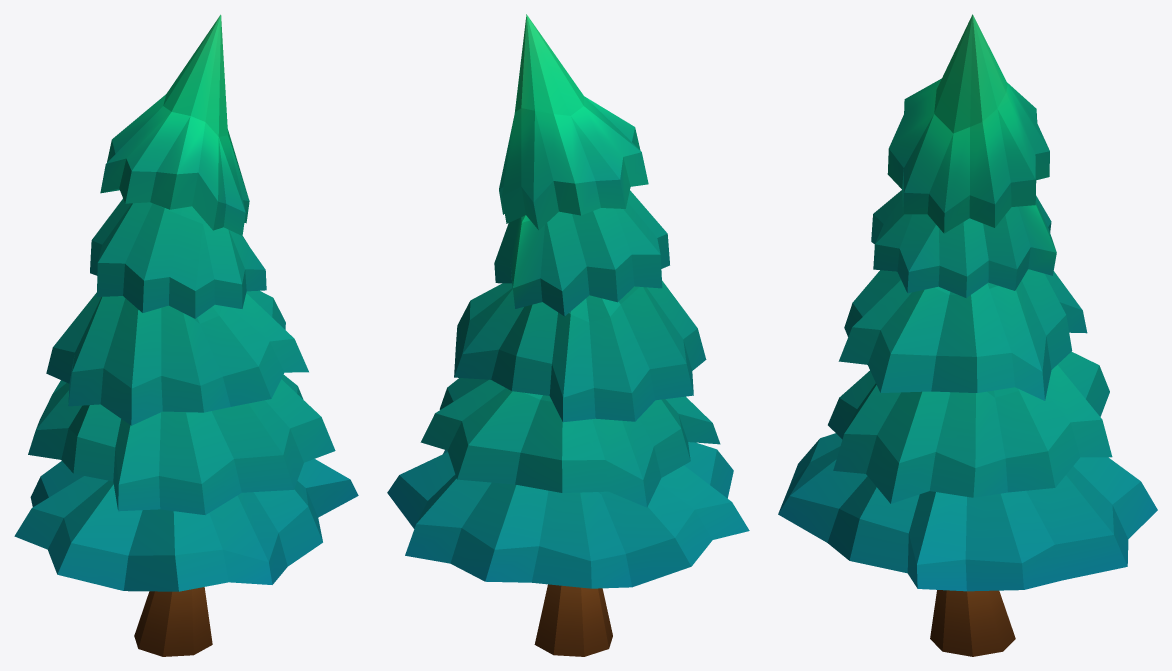
The model's file is Tree_Fern_Tall_Summer.fbx.
3 views of the same model, side by side, from view 1: azimuth 30°, elevation 25°; view 2: azimuth 150°, elevation 25°; view 3: azimuth 270°, elevation 25° (orthographic). The views are drawn at different scales.
Parts seen in each view (by area): view 1: Tree_Fern_Tall_Summer; view 2: Tree_Fern_Tall_Summer; view 3: Tree_Fern_Tall_Summer.
Boxes of the visible parts, box(x1,y1,x2,y2) form: Tree_Fern_Tall_Summer: box(14, 14, 358, 656); Tree_Fern_Tall_Summer: box(387, 14, 749, 656); Tree_Fern_Tall_Summer: box(778, 14, 1157, 656).
Bounding box in the file's own units: 286 × 544 × 288.
